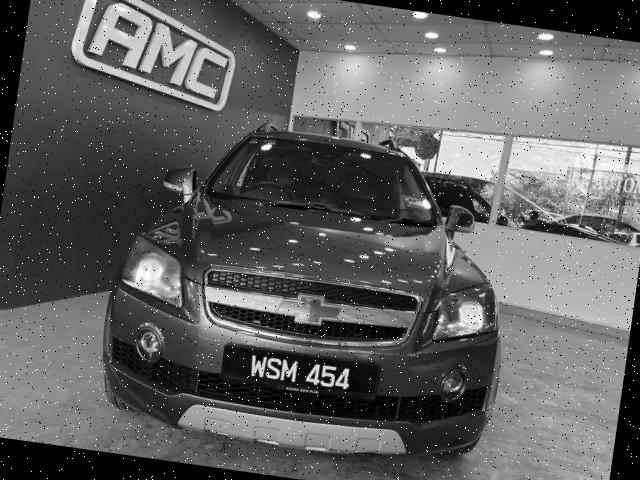License_Plate: (228, 348, 369, 400)
car: (88, 99, 534, 477)
